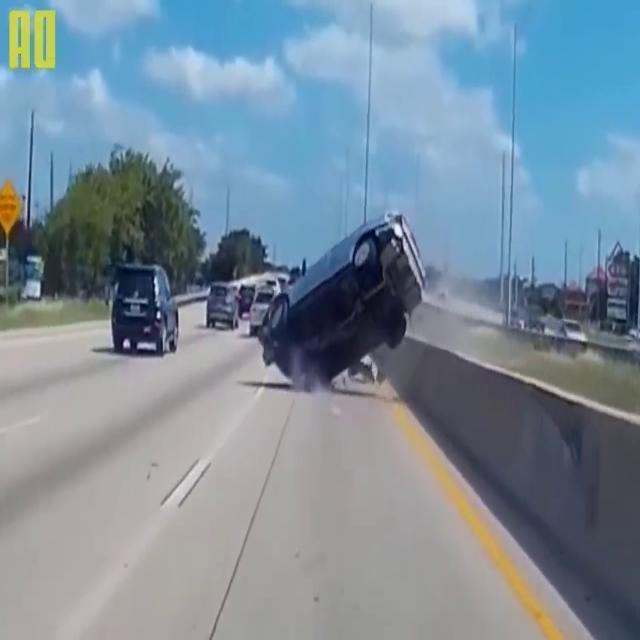accident: (260, 206, 430, 400)
non-accident: (205, 272, 279, 336), (505, 308, 587, 344)
